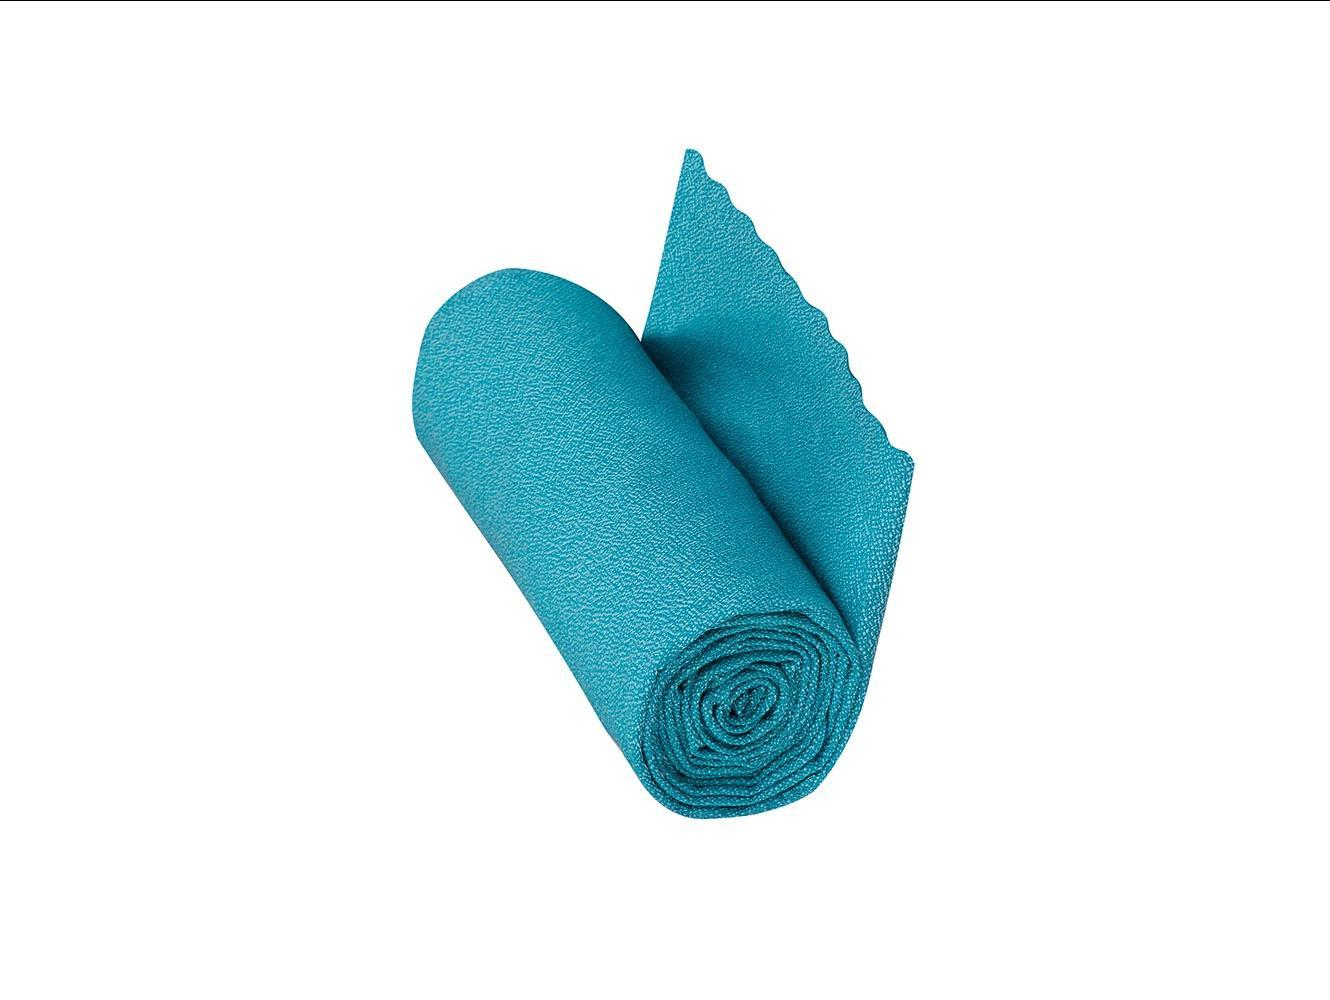towel: (345, 92, 973, 864)
